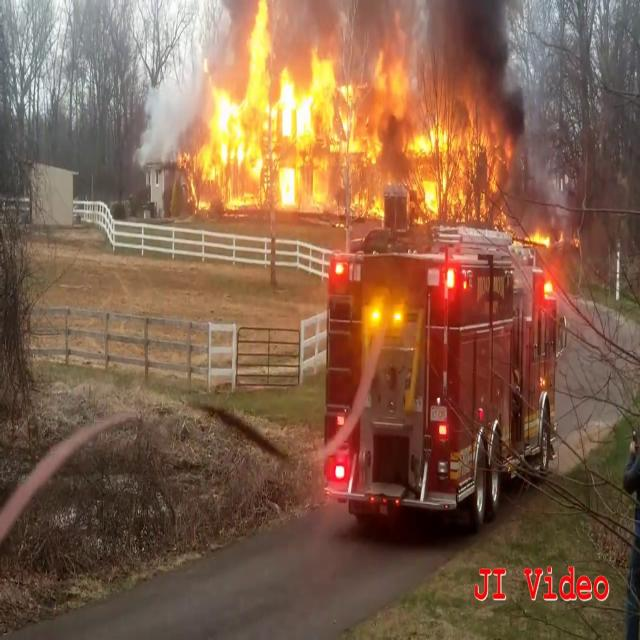Fire: (180, 4, 513, 230), (524, 219, 552, 247)
Smoke: (132, 40, 216, 189)
